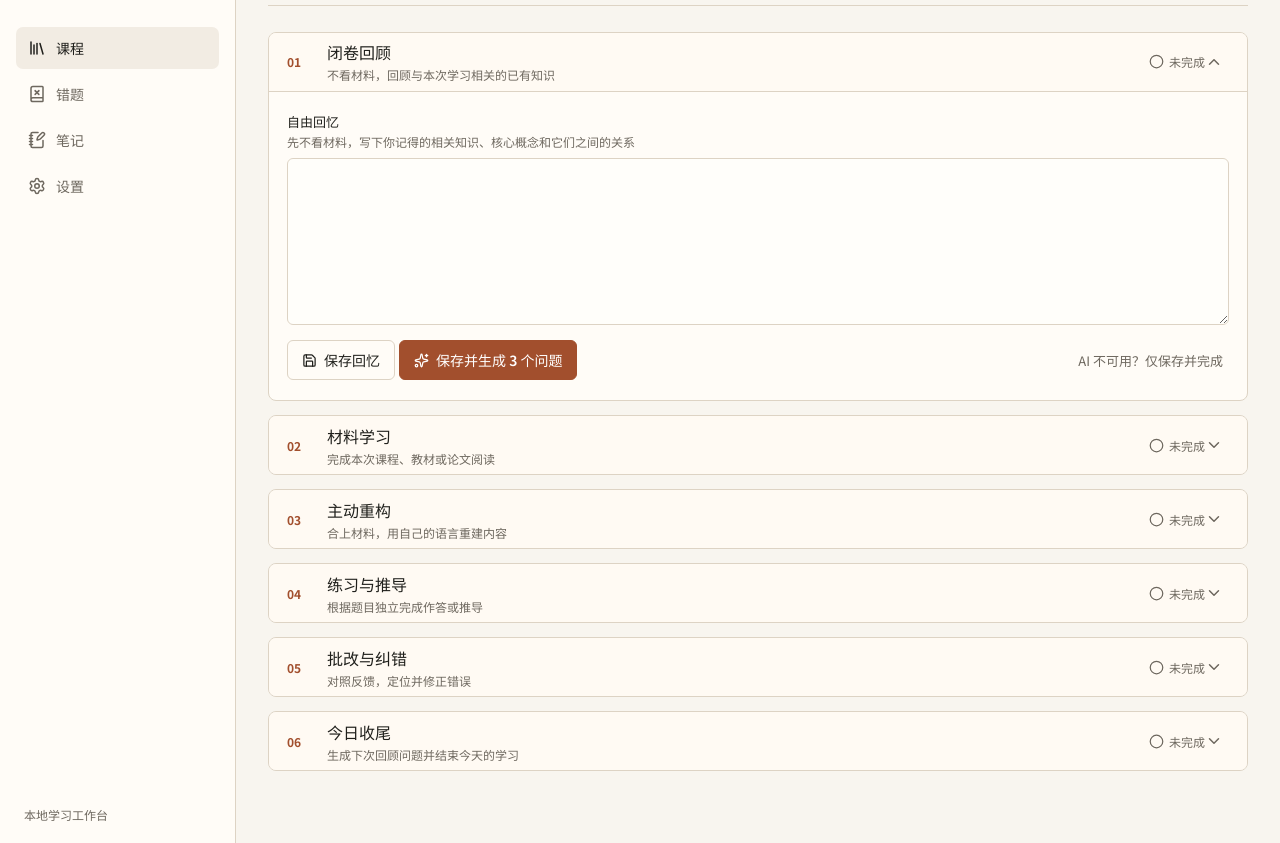
Scenario: App › hides unavailable previous and next controls at exercise boundaries
The image size is (1280, 843).
(page scrolled)
Step 1. Click the button with aria-label "展开练习与推导" → [367, 584], box [269, 564, 1247, 622]
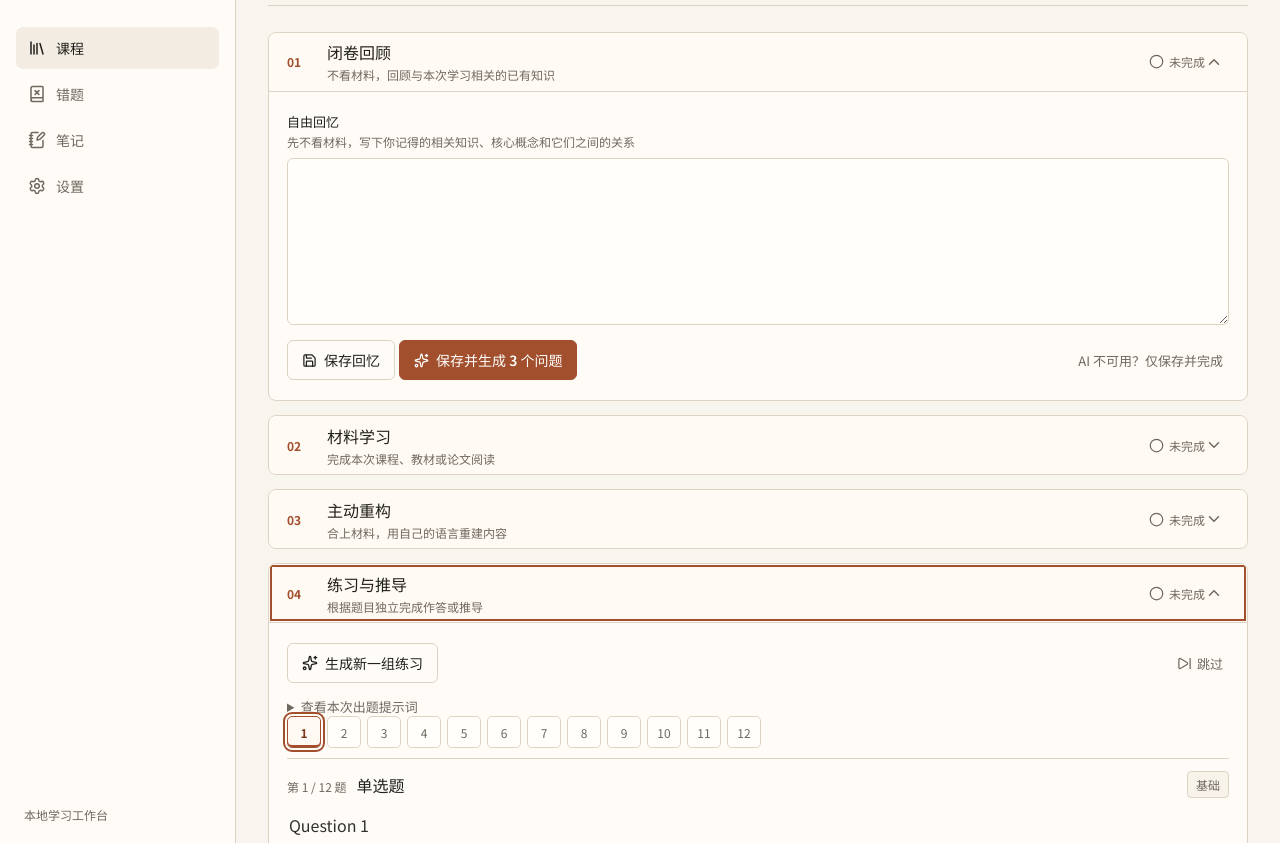
Expected: the button "上一题" is not shown
Step 2. Click the button "12" → [744, 732], box [727, 716, 761, 748]
(page scrolled)
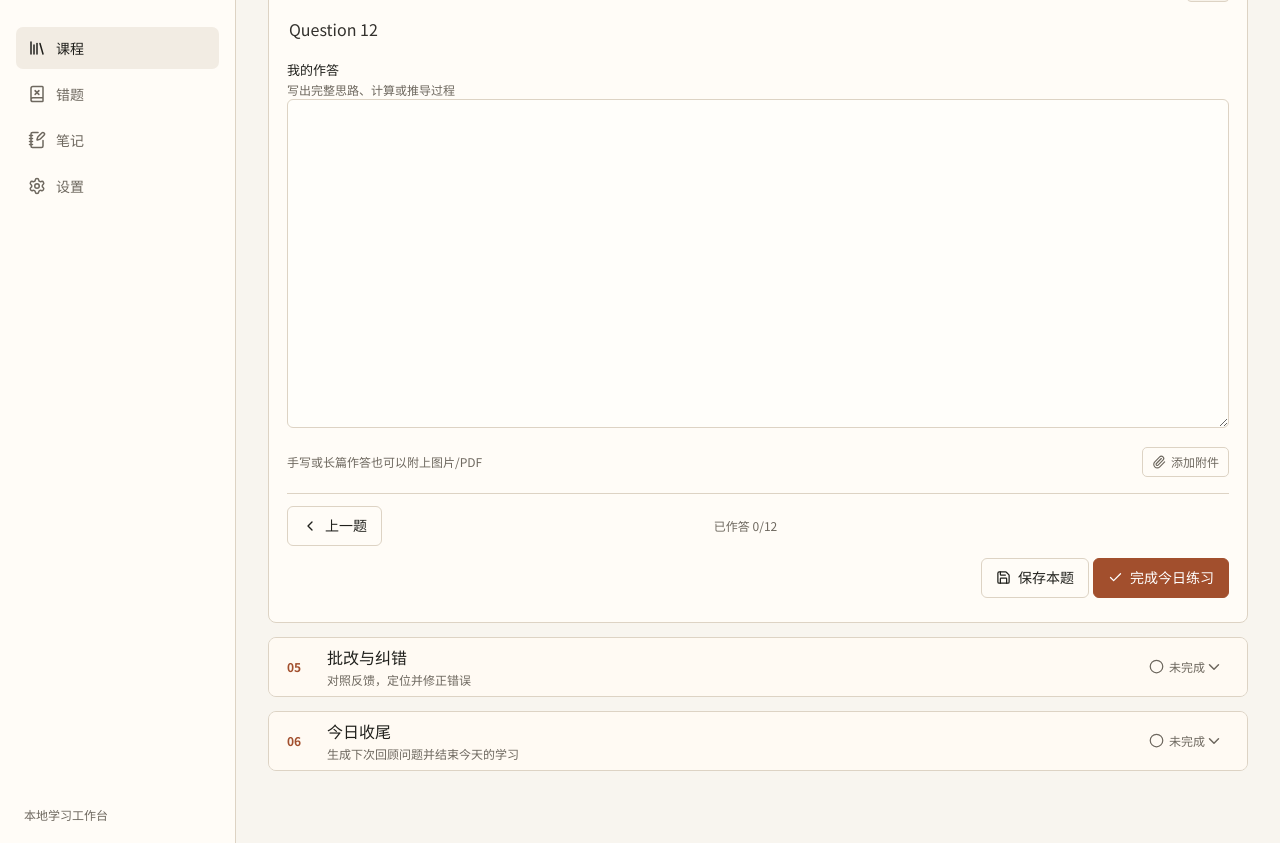
Expected: the button "上一题" is shown, [287, 506, 382, 546]
